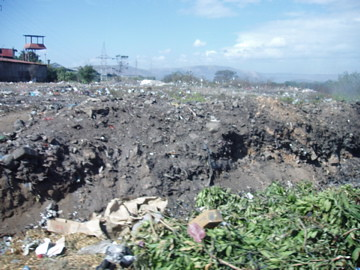building: (1, 36, 48, 85)
dirt: (1, 80, 346, 209)
sky: (1, 1, 360, 66)
